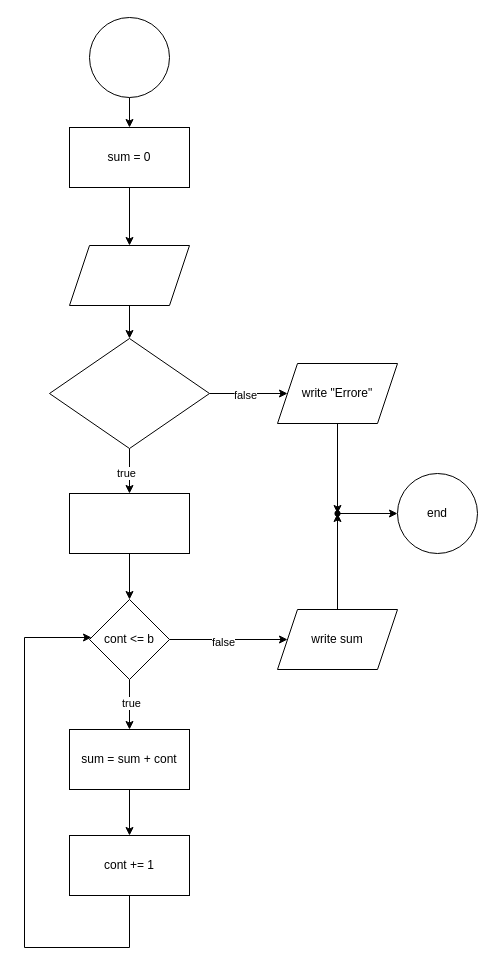
Image size: 495x973. Some labels were removed from this diagram. The centre of each missing label's shape, as x and y in pixels:
"a < b and a>0 and a%1==0 b>0 and b%1==0" goes at (x=129, y=393).
"cont = a" goes at (x=129, y=523).
"read a, read b" goes at (x=129, y=275).
"start" goes at (x=129, y=57).
